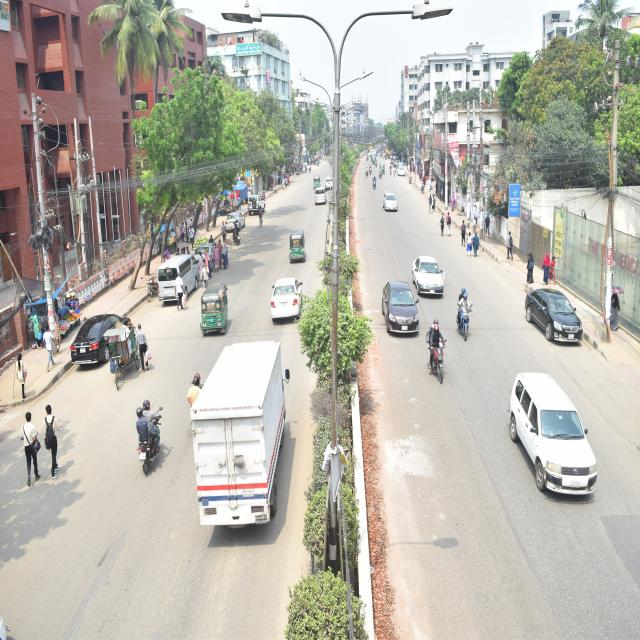car: (508, 367, 604, 501), (523, 280, 594, 349), (70, 312, 130, 365), (379, 274, 422, 341), (410, 251, 449, 303), (268, 274, 308, 322), (245, 188, 268, 218), (222, 211, 250, 235), (382, 188, 404, 216), (312, 180, 328, 209)
microbus: (155, 246, 204, 312)
motorbike: (132, 405, 164, 482), (424, 333, 449, 388), (458, 294, 474, 342), (370, 173, 379, 195)
pickup-van: (186, 340, 292, 534)
